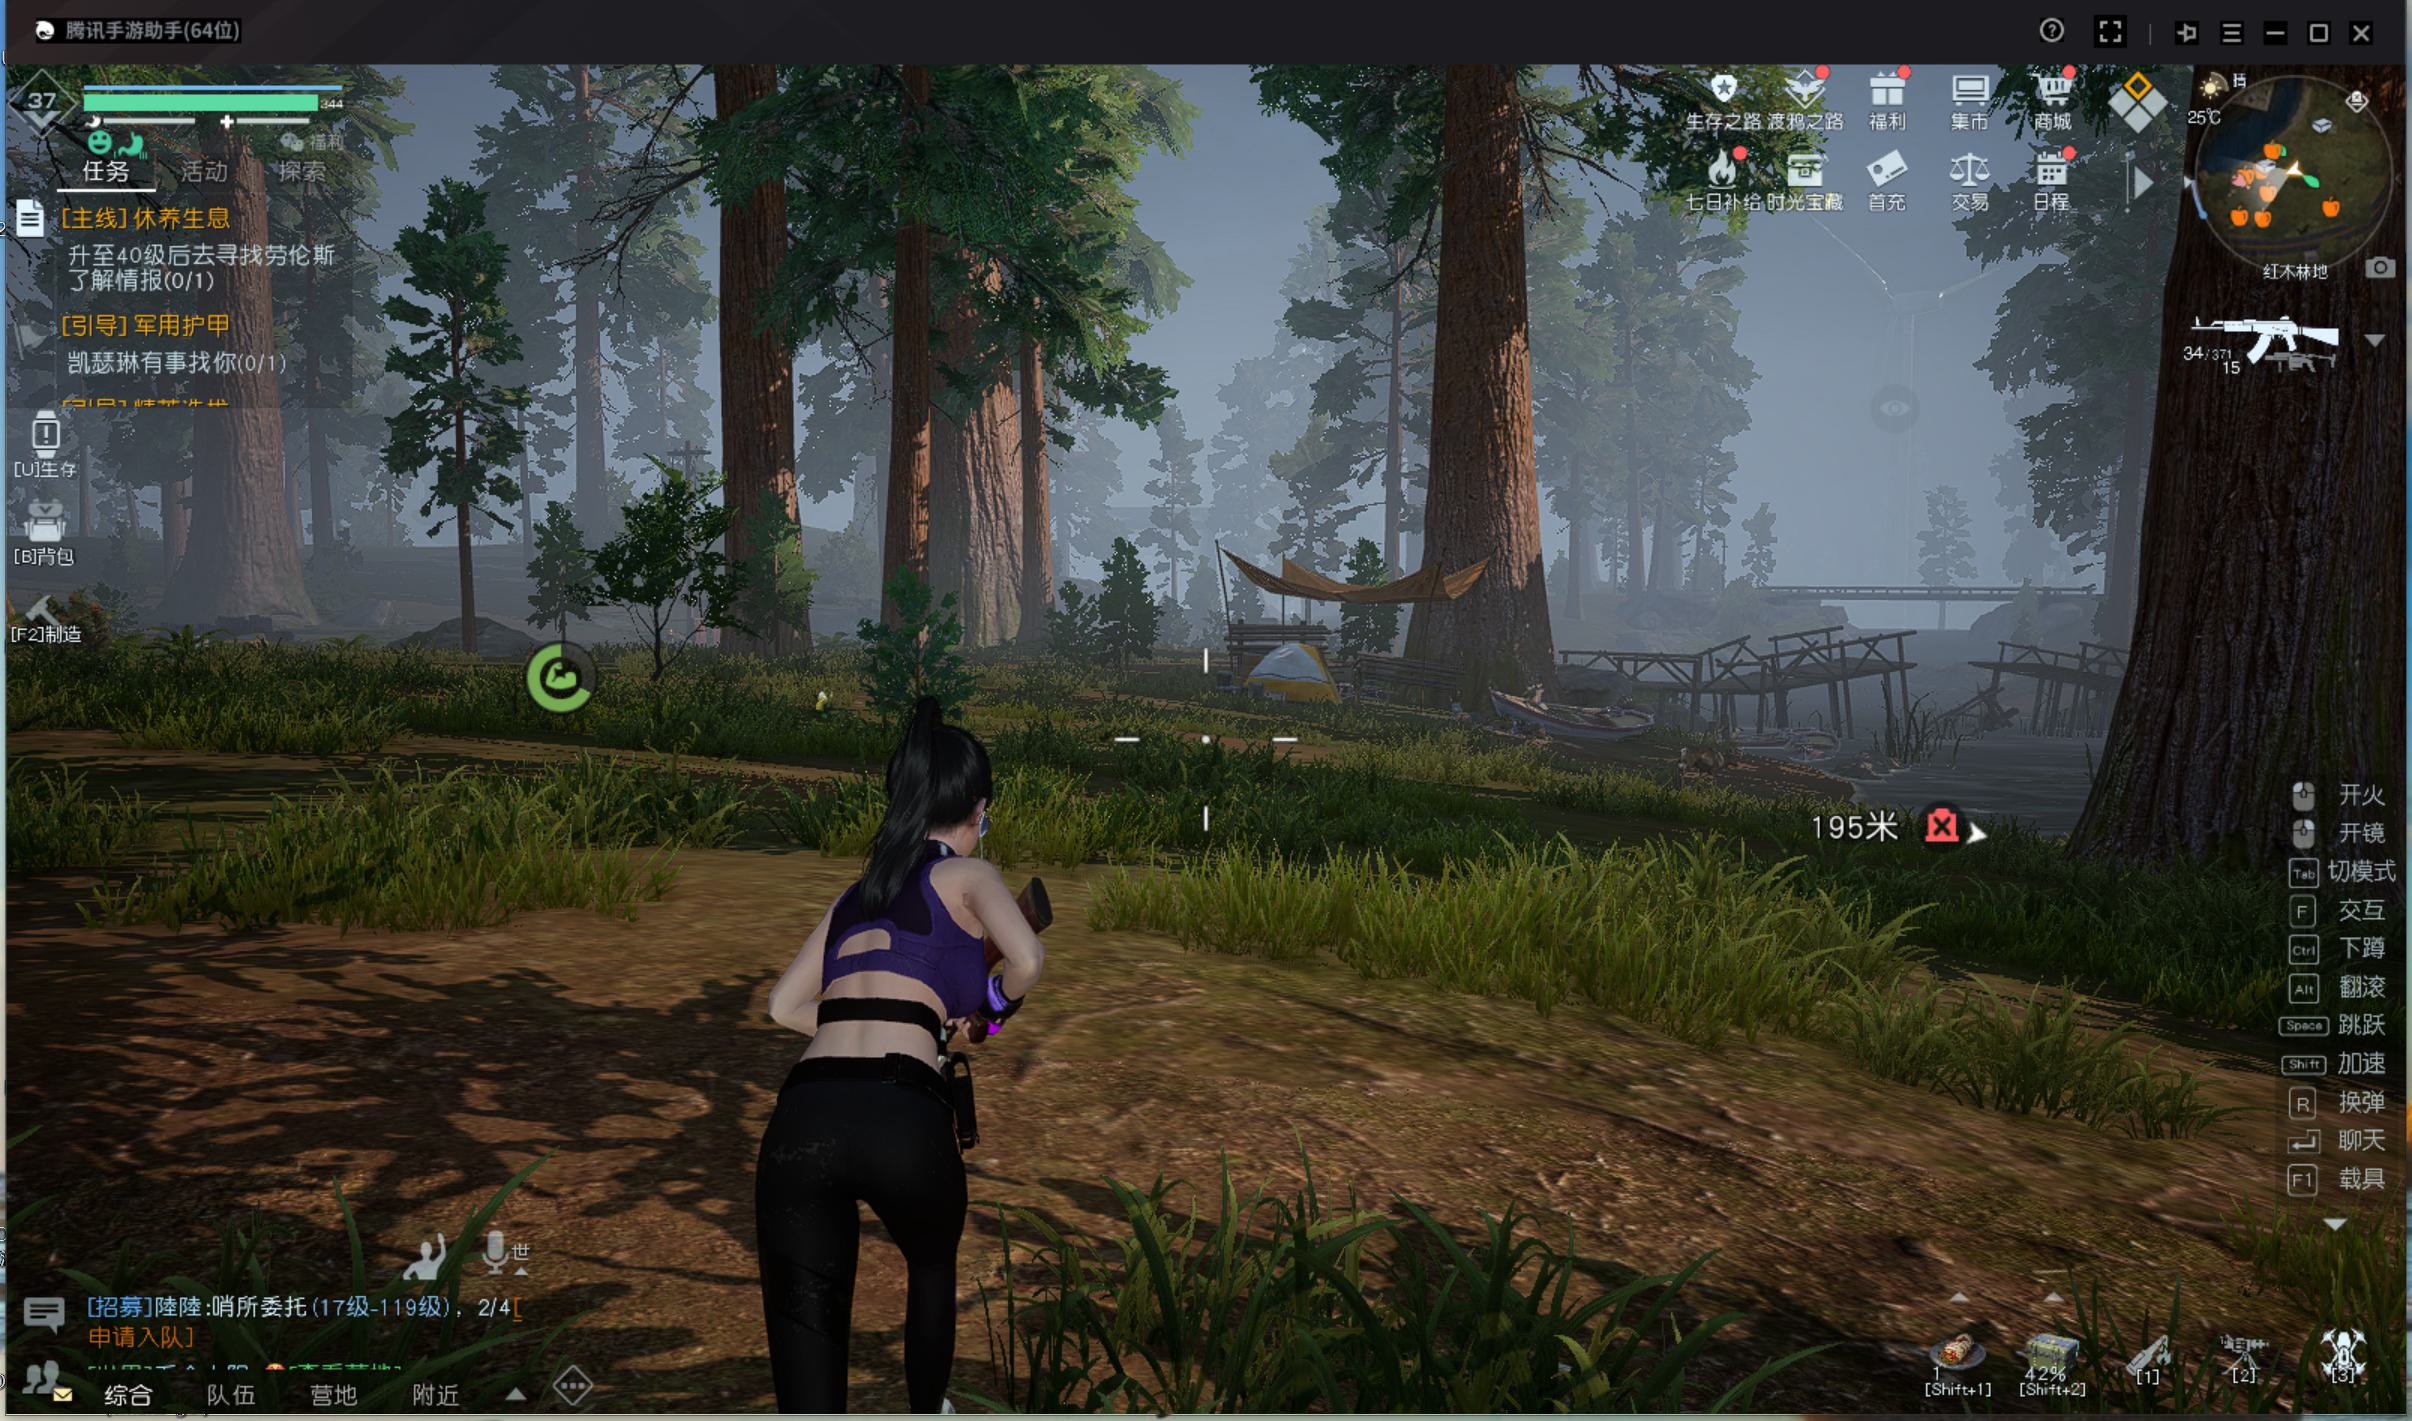tree: (1412, 284, 1558, 721), (709, 237, 802, 685), (869, 254, 939, 675), (1017, 316, 1061, 677)
